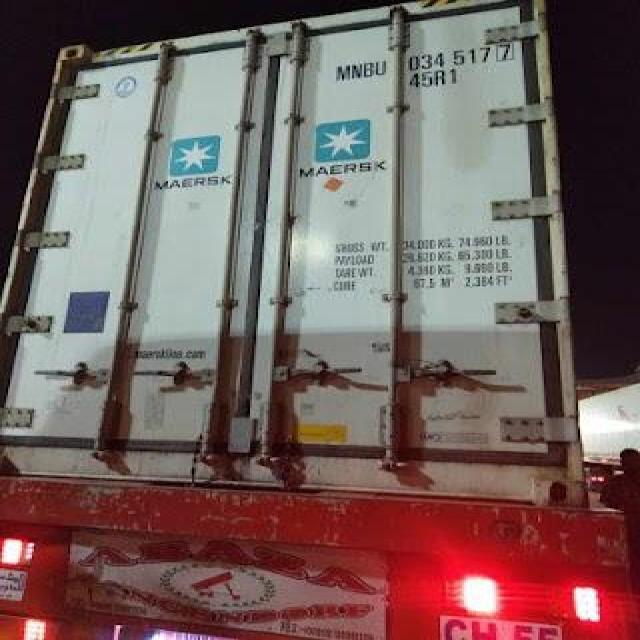ISO: (412, 68, 466, 98)
container_number: (338, 49, 513, 70)
